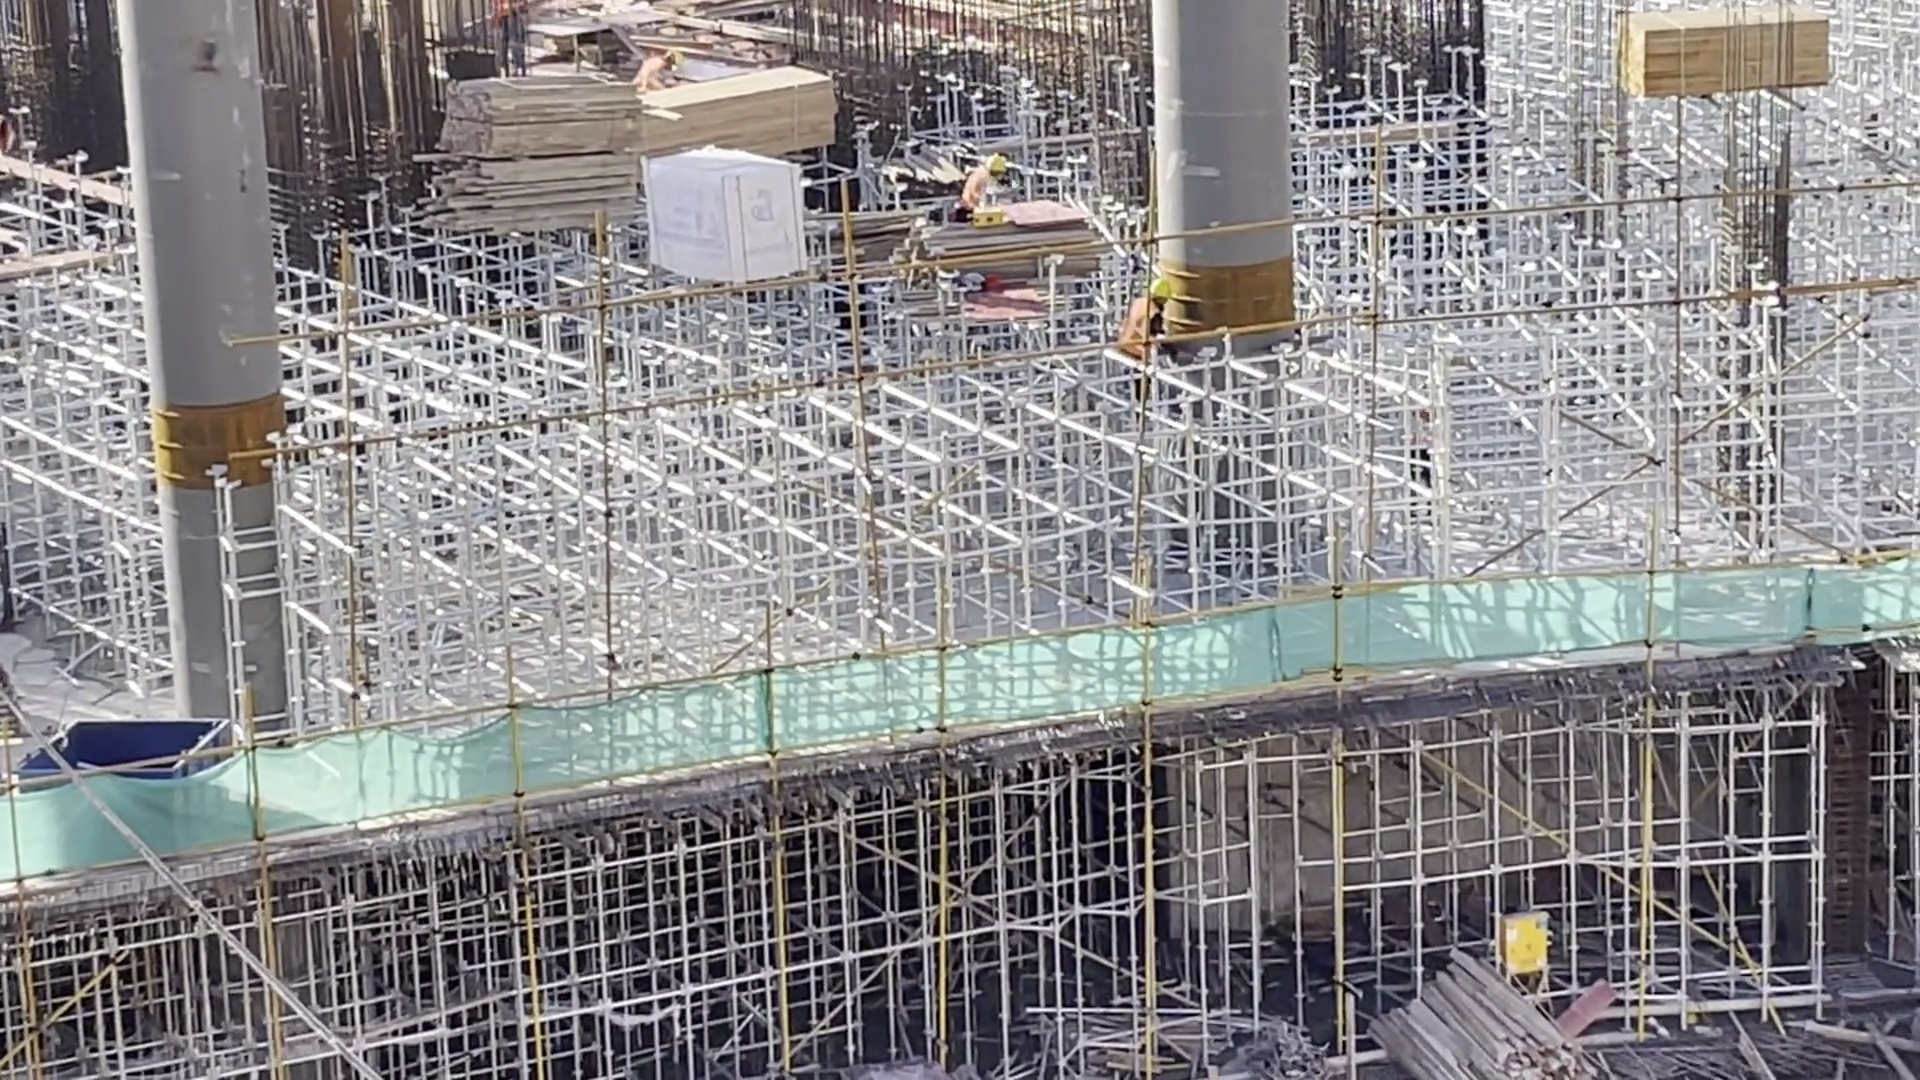board: (908, 194, 1121, 286)
ebox: (1503, 904, 1554, 986)
helmet: (1146, 278, 1174, 301), (984, 152, 1007, 175)
hopper: (18, 716, 243, 771)
person: (1119, 279, 1180, 359), (957, 153, 1011, 214), (630, 50, 683, 90)
vest: (1123, 295, 1163, 355), (961, 170, 1000, 203)
wood: (411, 72, 648, 231), (1367, 946, 1614, 1080), (1614, 6, 1834, 98), (633, 60, 841, 148)
